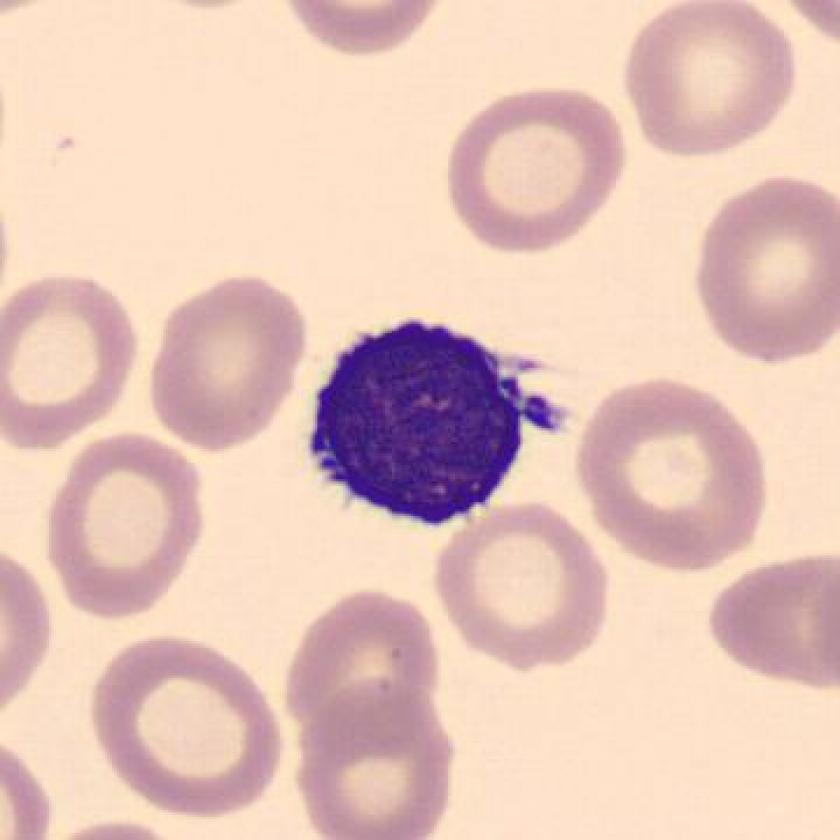lymphocyte: (300, 311, 580, 556)
